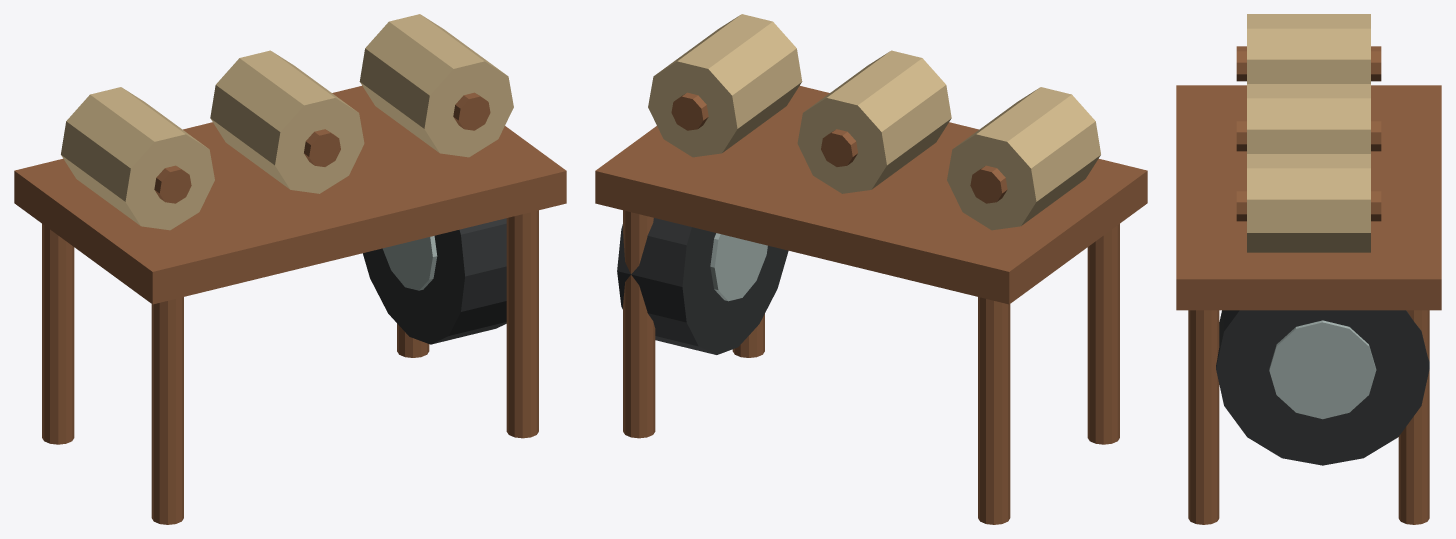
File: 072_coir_winding_bench.glb
3 views of the same model, side by side, from view 1: azimuth 30°, elevation 25°; view 2: azimuth 150°, elevation 25°; view 3: azimuth 270°, elevation 25° (orthographic). The views are drawn at different scales.
Parts seen in each view (by area): view 1: Coir winding bench; view 2: Coir winding bench; view 3: Coir winding bench.
Part boxes in pixels (x1=…): Coir winding bench: x1=14, y1=14, x2=566, y2=524; Coir winding bench: x1=595, y1=14, x2=1147, y2=524; Coir winding bench: x1=1176, y1=14, x2=1441, y2=524.
Size of the model in its own units: 1.33 by 1.1 by 0.77.
